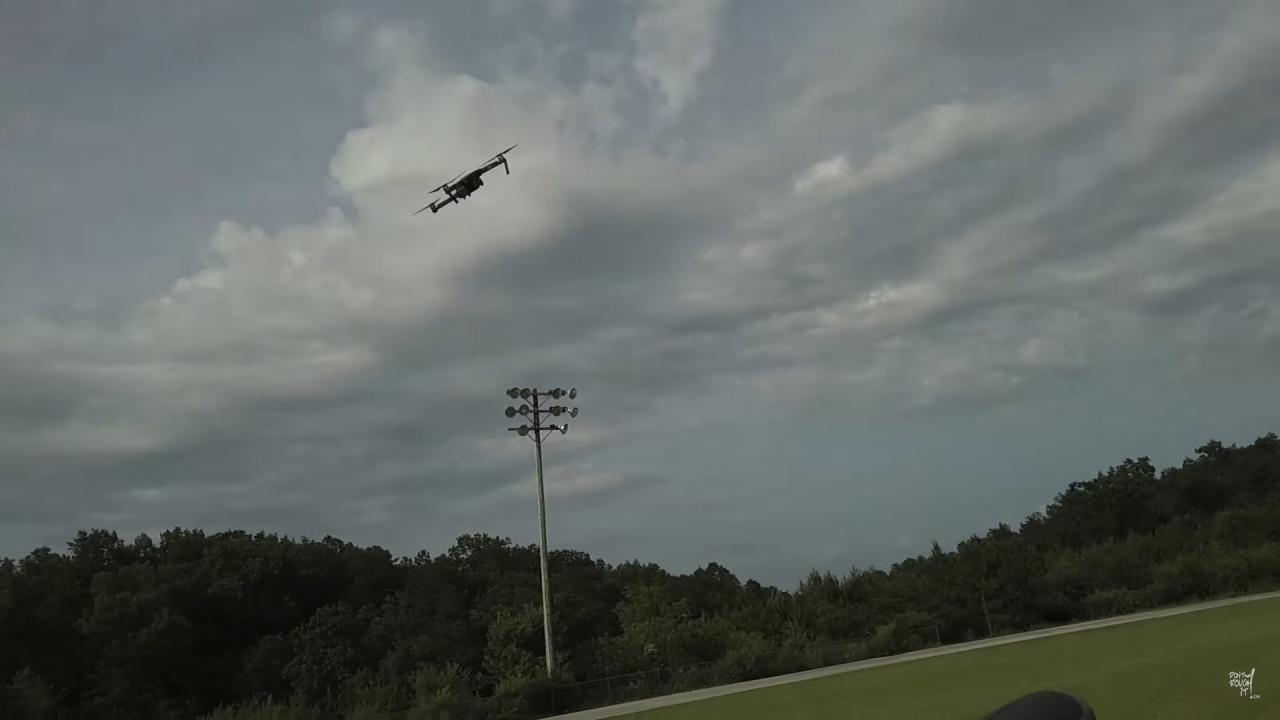Drone: (403, 135, 532, 231)
